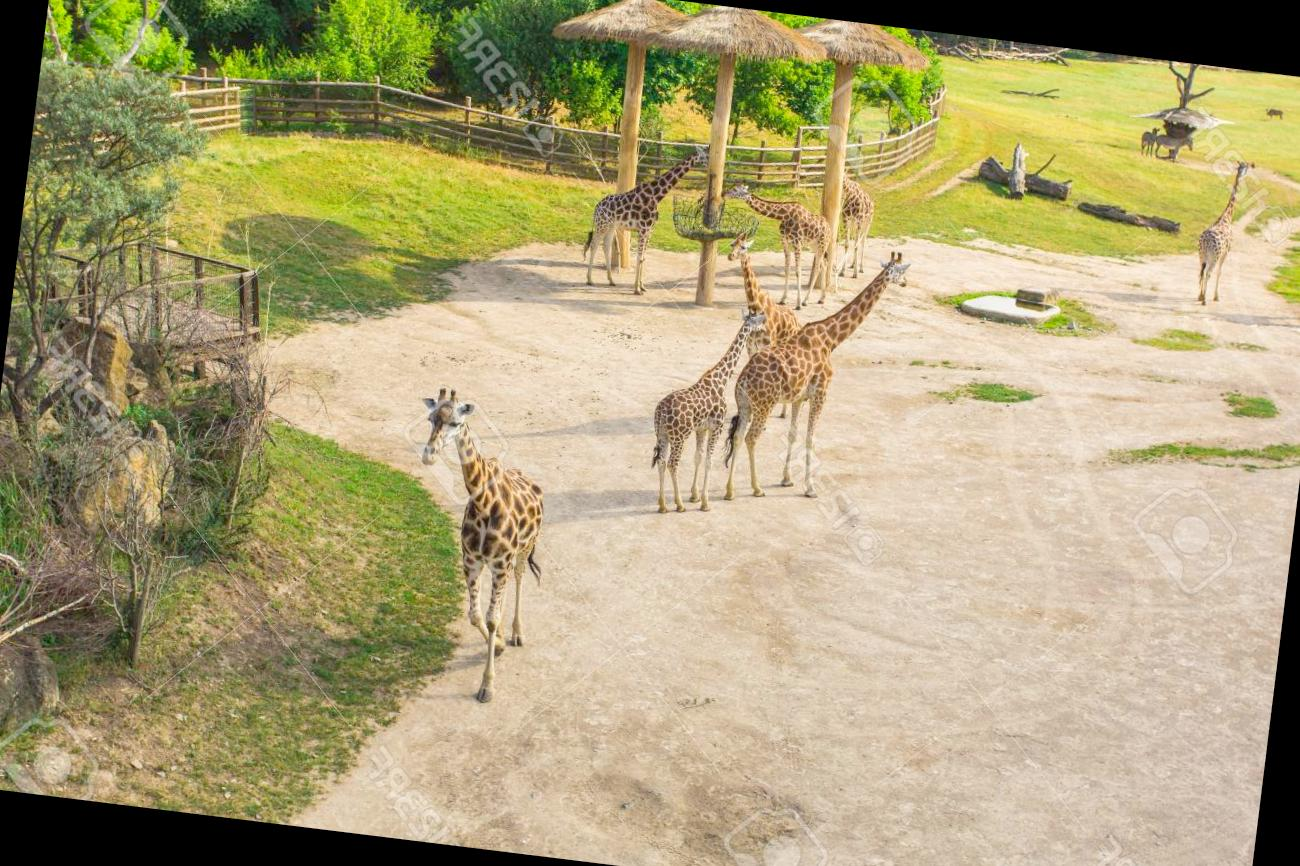giraffe: (386, 383, 564, 708), (717, 231, 913, 517), (642, 294, 772, 524), (579, 129, 711, 302), (710, 180, 842, 312), (1191, 155, 1257, 309), (830, 174, 878, 280)
